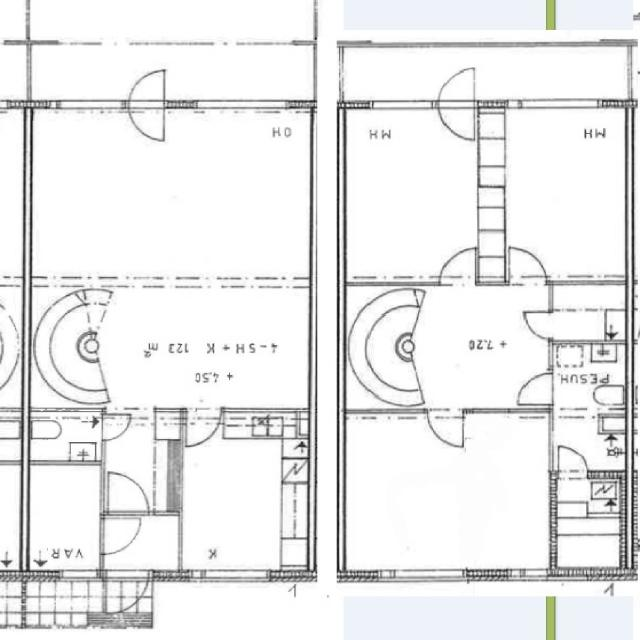door: (434, 63, 479, 146), (126, 65, 170, 148), (102, 468, 150, 517), (425, 406, 469, 456), (505, 243, 552, 289), (436, 242, 480, 289), (512, 368, 556, 412), (98, 516, 144, 556), (183, 410, 223, 450), (113, 570, 149, 614), (552, 442, 590, 481), (517, 308, 557, 341), (98, 411, 134, 443)
window: (355, 569, 500, 617), (370, 562, 470, 588), (507, 92, 609, 117), (189, 94, 294, 118), (186, 564, 275, 589), (346, 271, 440, 294), (44, 94, 126, 118), (362, 95, 435, 116)
zone: (53, 288, 324, 409), (340, 105, 498, 285), (482, 104, 632, 284), (353, 286, 552, 407), (174, 415, 315, 580), (550, 342, 628, 465), (24, 461, 104, 576), (551, 475, 628, 567), (550, 281, 627, 348), (27, 410, 105, 465)
